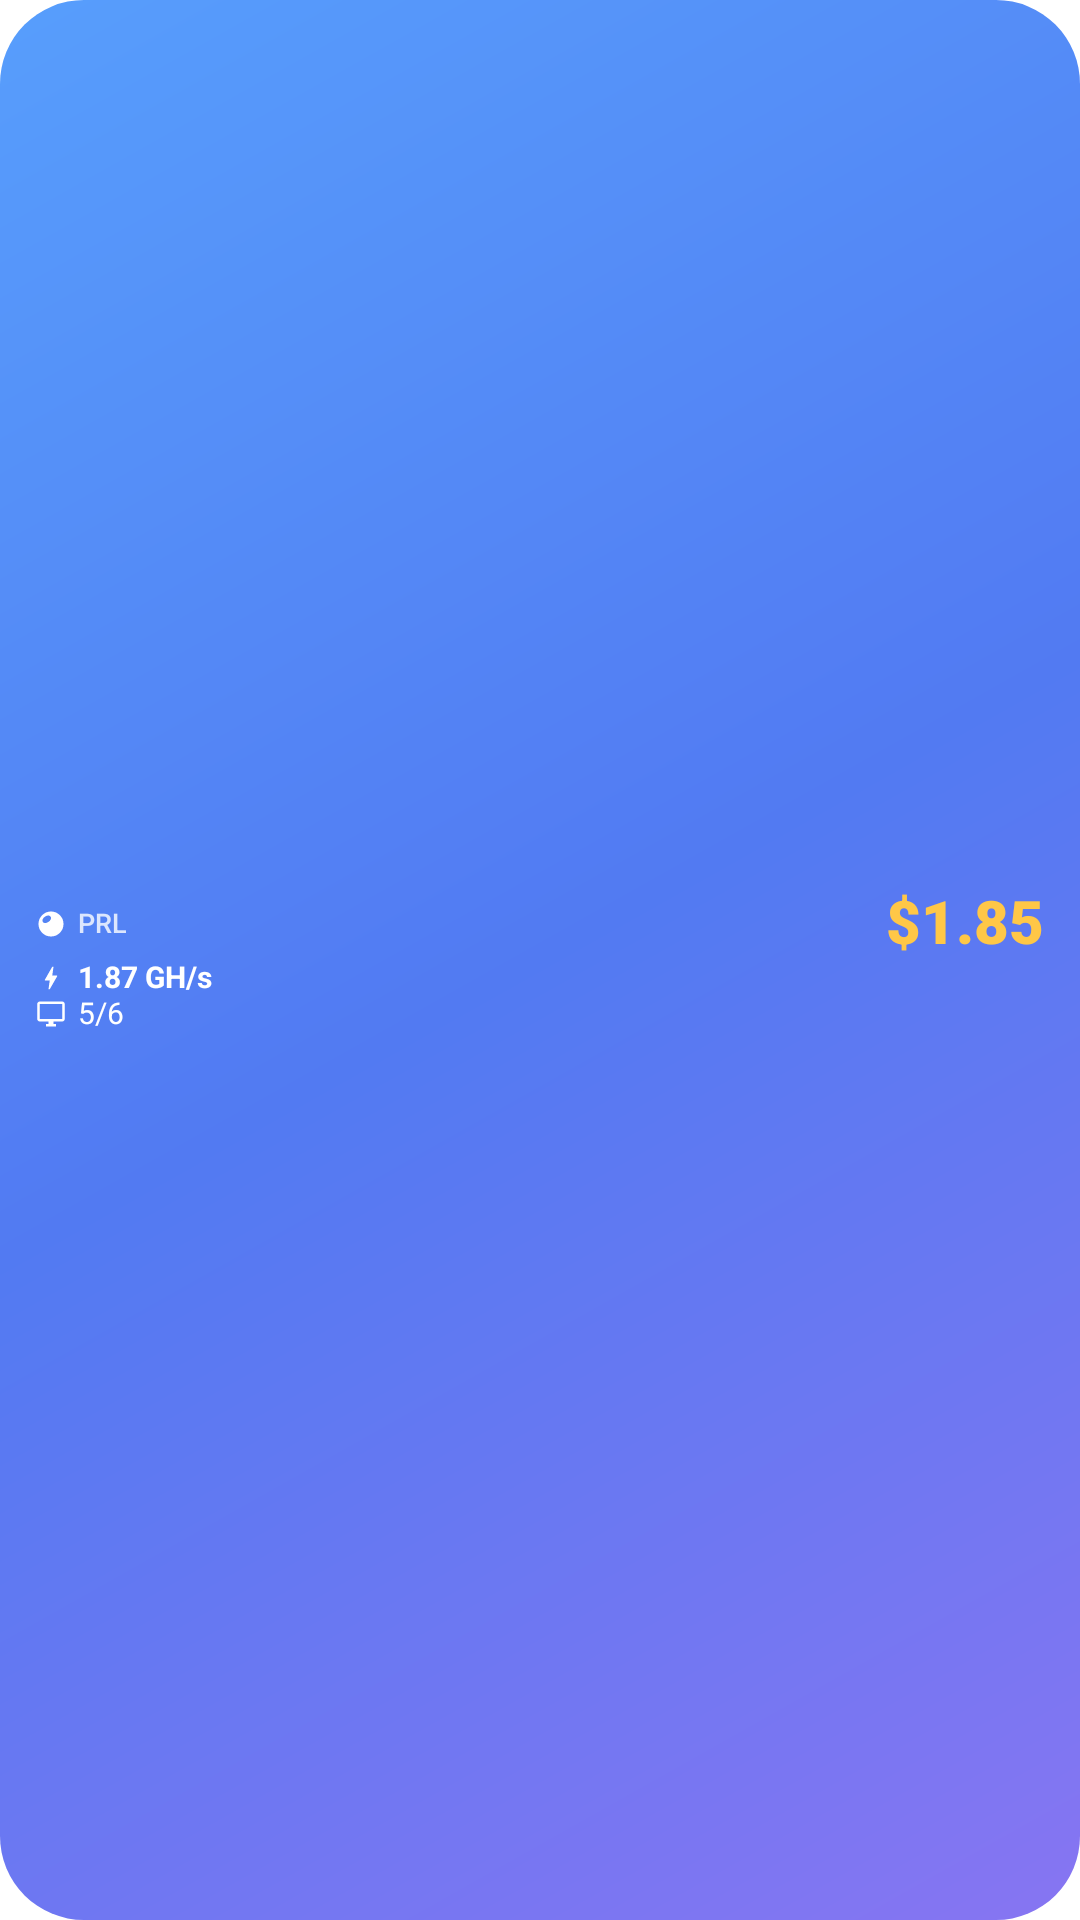

Icons on this 1080x1920 Android screen, each with its box as (x1, y1, x2, y2):
pearl: (38, 911, 64, 937)
widget bolt: (45, 966, 57, 990)
widget desktop: (37, 1001, 65, 1027)
